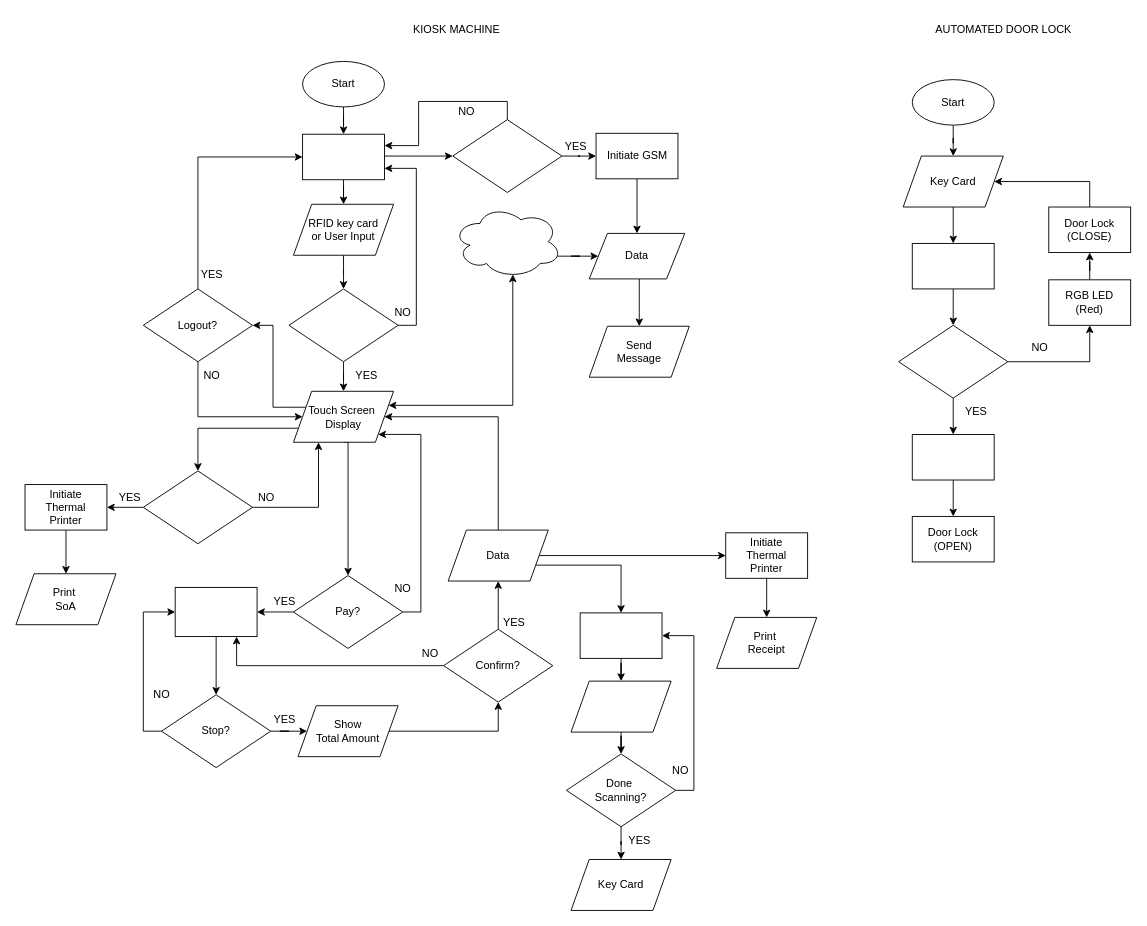
Some shapes in this 1147 by 926 pixel diagram are drawn without their labels. The box of each missing label's shape, as (x1, y1, x2, y2) in pixels:
Correct User Input?: (288, 288, 398, 362)
Database: (452, 204, 562, 278)
Initiate Bill Acceptor: (174, 586, 257, 637)
Initiate Device: (302, 133, 384, 180)
Initiate RFID Read: (911, 243, 994, 289)
Initiate RFID Read/Write: (579, 612, 662, 658)
Print Statement of Account?: (142, 470, 253, 544)
RGB LED (Green): (911, 434, 994, 480)
The end of the month?: (452, 119, 562, 192)
Update Status: (570, 680, 671, 732)
Update Status?: (898, 324, 1008, 398)
